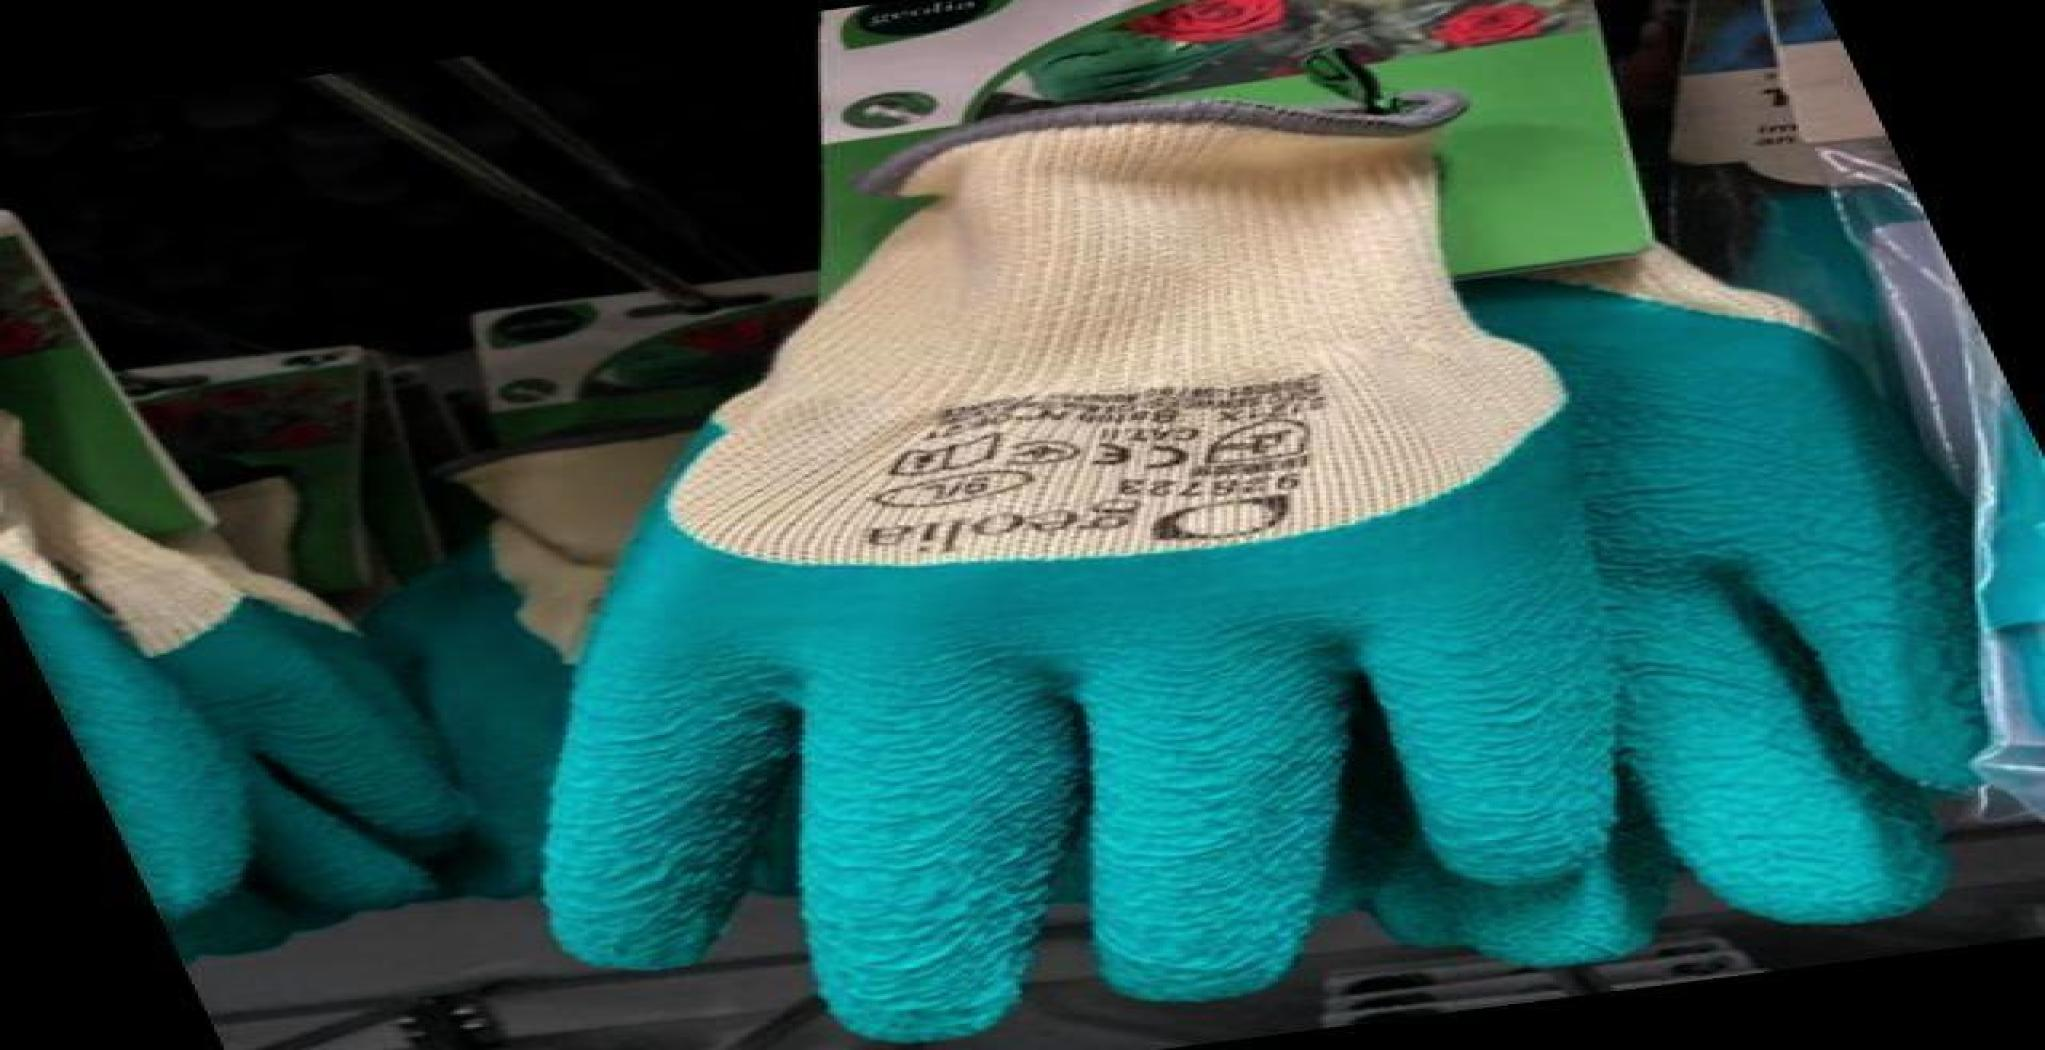gloved: (587, 137, 1650, 1003)
